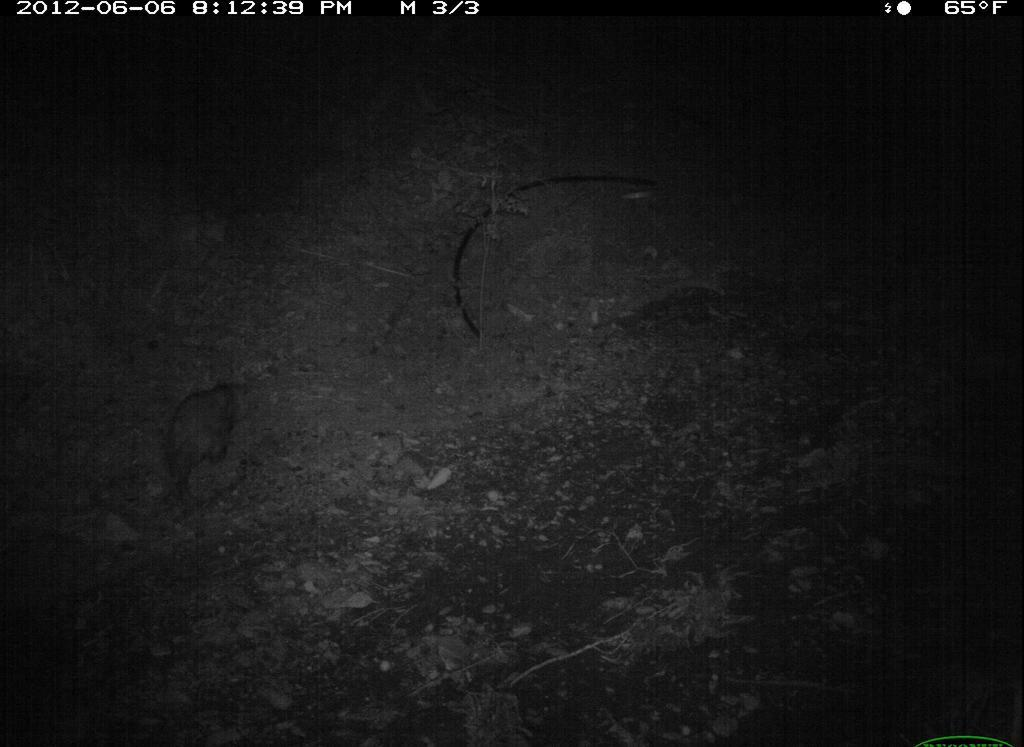opossum: (139, 365, 264, 525)
